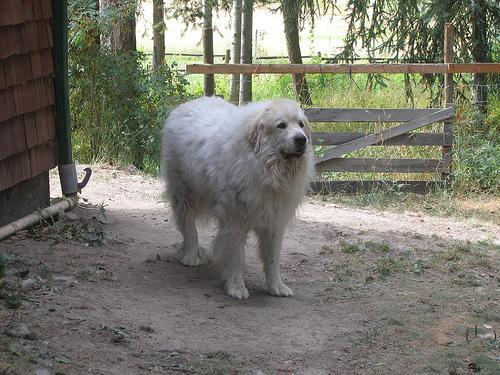Great_Pyrenees: (161, 95, 313, 298)
